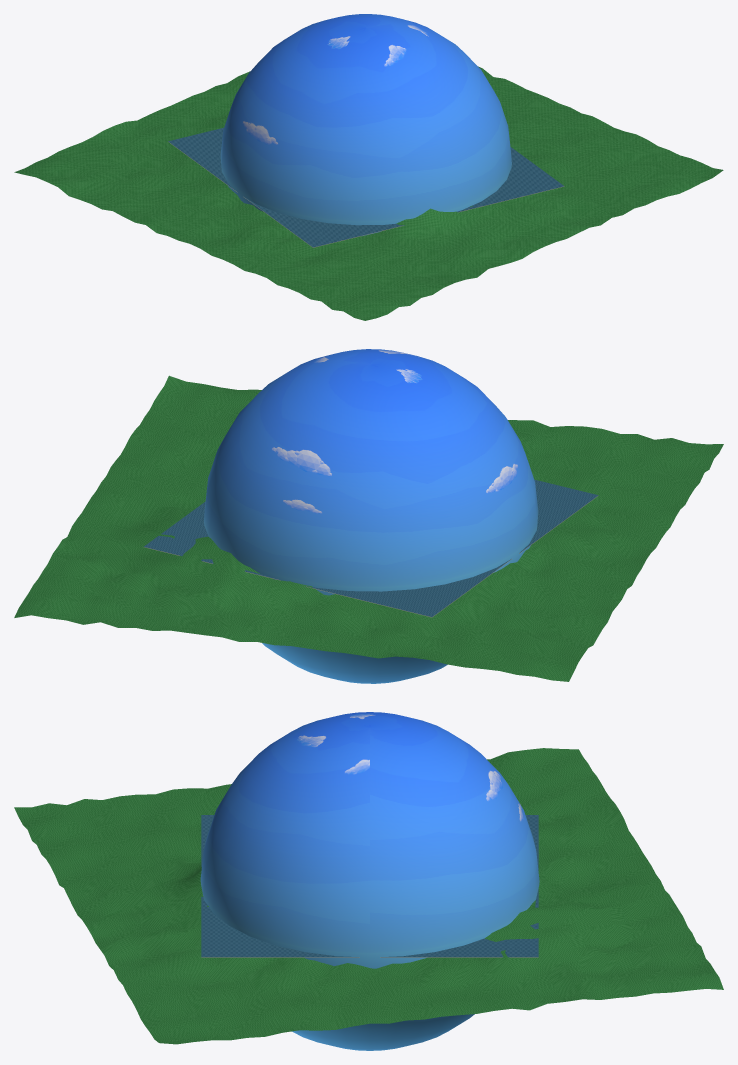
File: map.obj
The picture shows the model from 3 angles, top to bottom: view 1: azimuth 30°, elevation 25°; view 2: azimuth 150°, elevation 25°; view 3: azimuth 270°, elevation 25°; orthographic projection. The views are drawn at different scales.
Parts seen in each view (by area): view 1: outer_textured_nocol, sky_nocol_textured, water_nocol_textured; view 2: outer_textured_nocol, sky_nocol_textured, water_nocol_textured; view 3: outer_textured_nocol, sky_nocol_textured, water_nocol_textured.
Part boxes in pixels (left/top/right/bottom): outer_textured_nocol: left=14, top=66, right=723, bottom=320; sky_nocol_textured: left=220, top=14, right=511, bottom=236; water_nocol_textured: left=168, top=127, right=563, bottom=247; outer_textured_nocol: left=14, top=375, right=723, bottom=681; sky_nocol_textured: left=204, top=349, right=538, bottom=683; water_nocol_textured: left=144, top=479, right=598, bottom=616; outer_textured_nocol: left=14, top=748, right=723, bottom=1044; sky_nocol_textured: left=200, top=712, right=539, bottom=1050; water_nocol_textured: left=201, top=815, right=538, bottom=957.
Size of the model in its own units: 6818 by 3258 by 6818.
